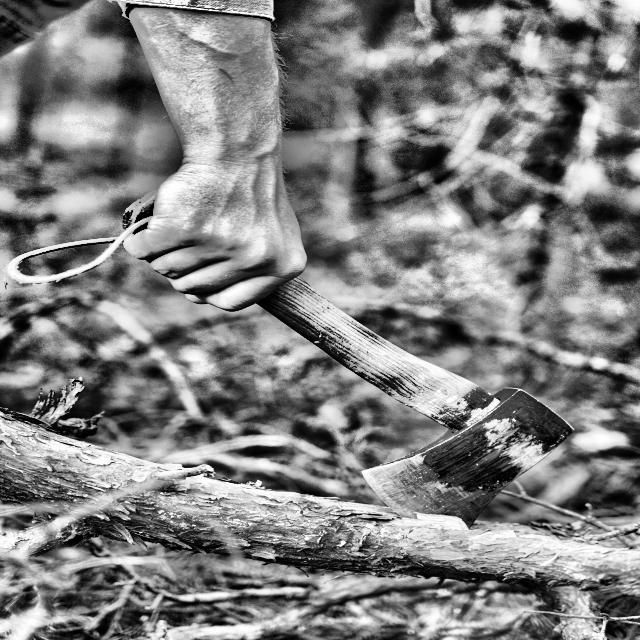kapak: (0, 172, 615, 540)
